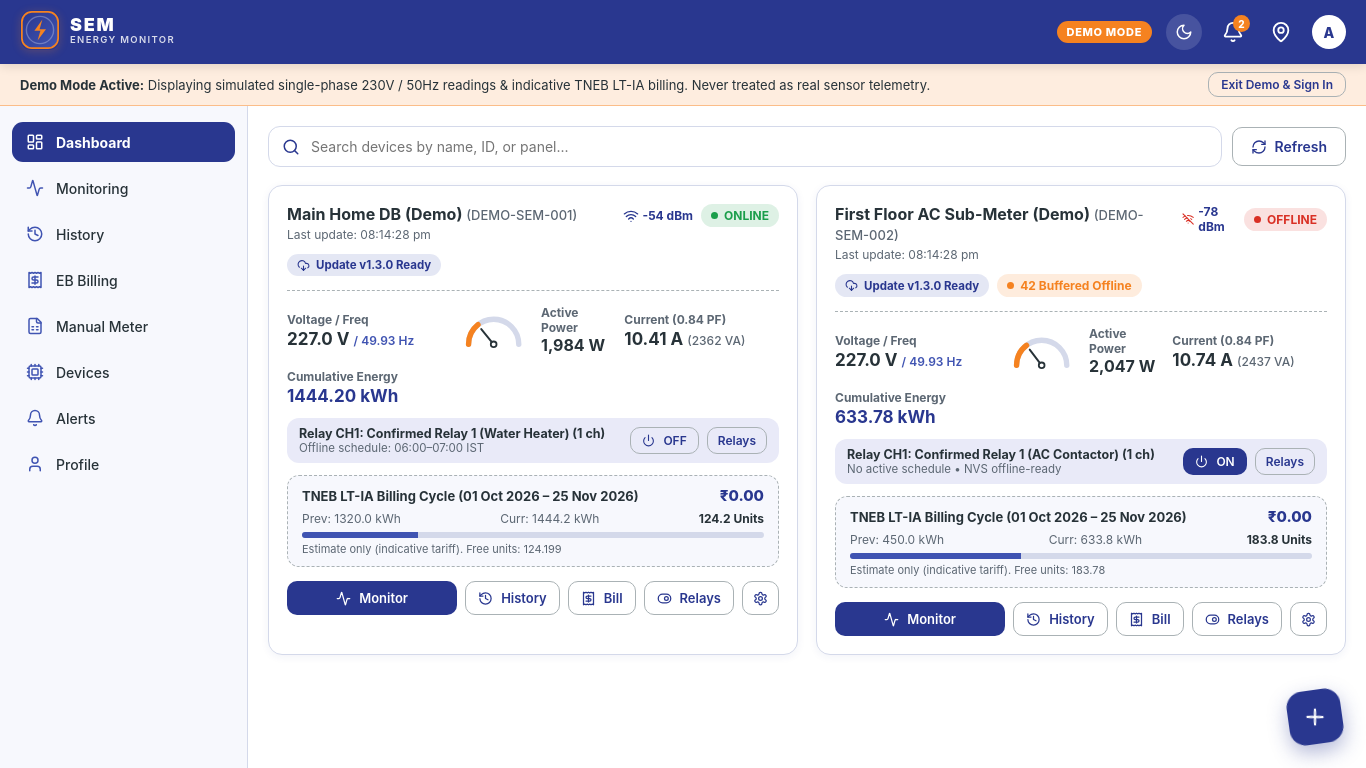
Test case: Phase 2 Web Dashboard, Monitoring & Devices › renders live device cards on dashboard and filters by search
Expected: the text "Main Home DB (Demo) (DEMO-SEM-001)" is shown, [287,204,577,224]
Expected: the text "First Floor AC Sub-Meter (Demo) (DEMO-SEM-002)" is shown, [835,204,1172,244]
Type "DEMO-SEM-002" into the search field labelled "Search devices by name, ID, or panel...".
click(745, 146); type("DEMO-SEM-002")  # box [268,126,1222,167]
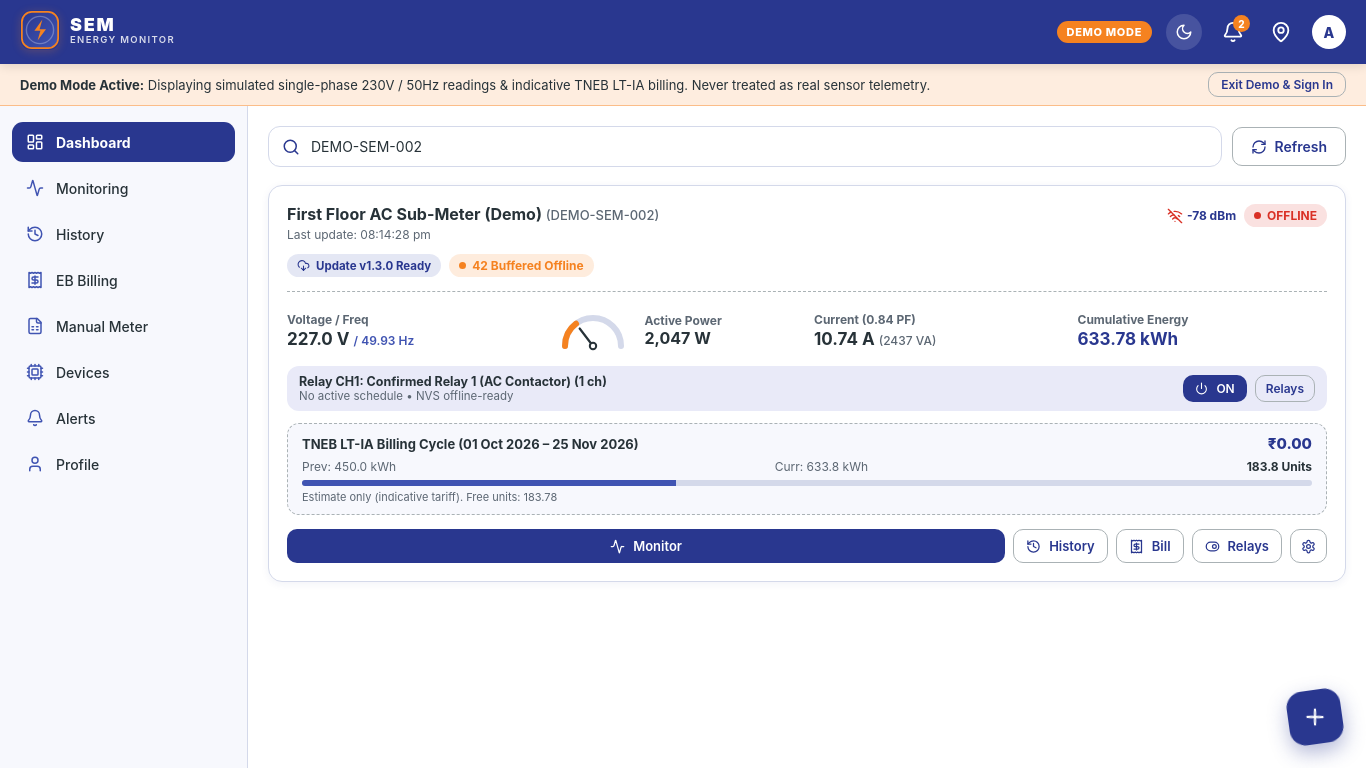
Expected: the text "First Floor AC Sub-Meter (Demo) (DEMO-SEM-002)" is shown, [287,204,659,224]
Expected: the text "Main Home DB (Demo)" is gone
